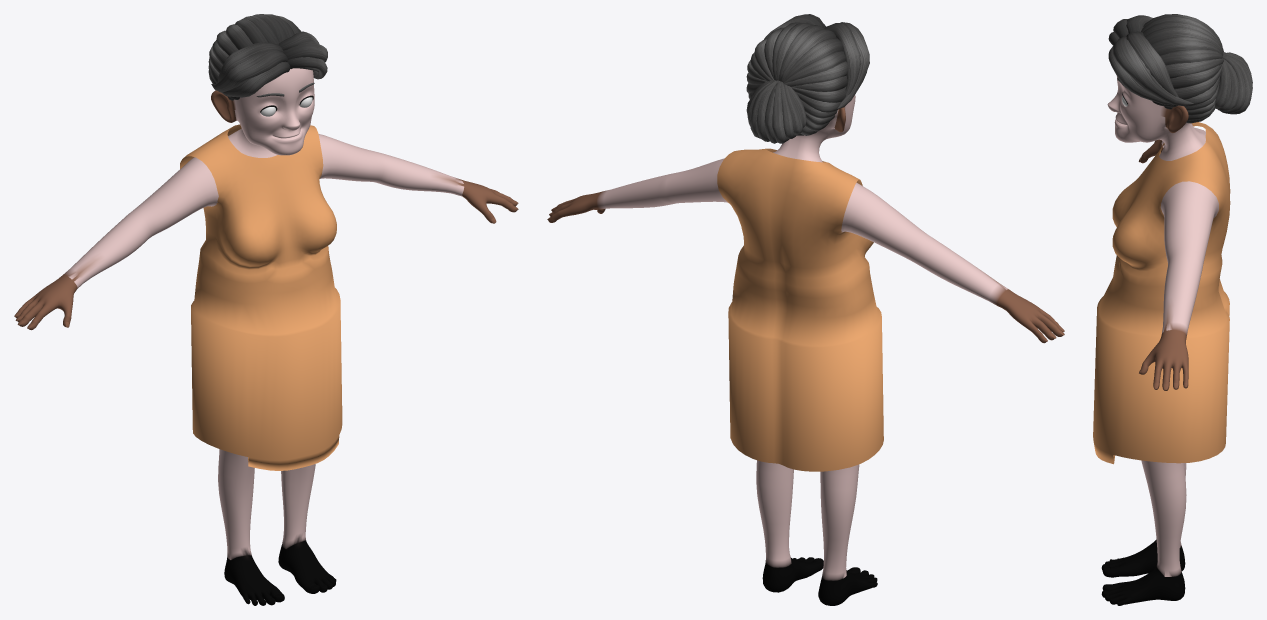
Rendered from Elderly Lori.fbx.
The picture shows the model from 3 angles, left to right: view 1: azimuth 30°, elevation 25°; view 2: azimuth 150°, elevation 25°; view 3: azimuth 270°, elevation 25°; orthographic projection. The views are drawn at different scales.
Visible parts, largest first — view 1: GEO-body.001, GEO-body, GEO-hair; view 2: GEO-body.001, GEO-body, GEO-hair; view 3: GEO-body.001, GEO-body, GEO-hair.
Boxes of the visible parts, box(x1,y1,x2,y2) form: GEO-body.001: box(180, 124, 342, 470); GEO-body: box(14, 68, 518, 605); GEO-hair: box(208, 14, 327, 100); GEO-body.001: box(717, 148, 883, 471); GEO-body: box(547, 95, 1064, 605); GEO-hair: box(746, 14, 869, 143); GEO-body.001: box(1093, 122, 1230, 464); GEO-body: box(1101, 76, 1218, 605); GEO-hair: box(1108, 14, 1252, 123).
Size of the model in its own units: 154 by 164 by 41.86.
